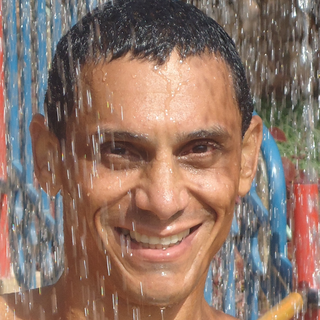eye: (176, 139, 224, 164)
